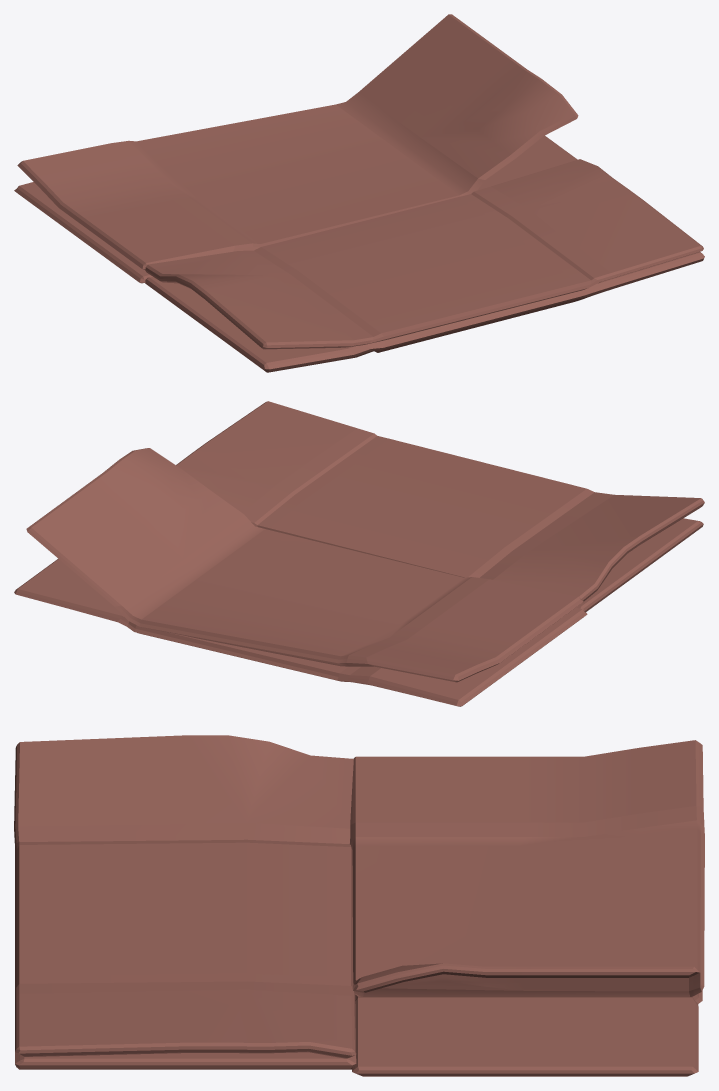
The model's file is BrokenDownMovingBoxB.fbx.
The picture shows the model from 3 angles, top to bottom: view 1: azimuth 30°, elevation 25°; view 2: azimuth 150°, elevation 25°; view 3: azimuth 270°, elevation 25°; orthographic projection. The views are drawn at different scales.
Visible parts, largest first — view 1: BrokenDownMovingBoxB1; view 2: BrokenDownMovingBoxB1; view 3: BrokenDownMovingBoxB1.
Boxes of the visible parts, x1,y1,x2,y2 form: BrokenDownMovingBoxB1: (14, 14, 704, 372); BrokenDownMovingBoxB1: (14, 401, 704, 706); BrokenDownMovingBoxB1: (14, 735, 704, 1076).
Bounding box in the file's own units: 2.18 × 0.3925 × 2.1.
